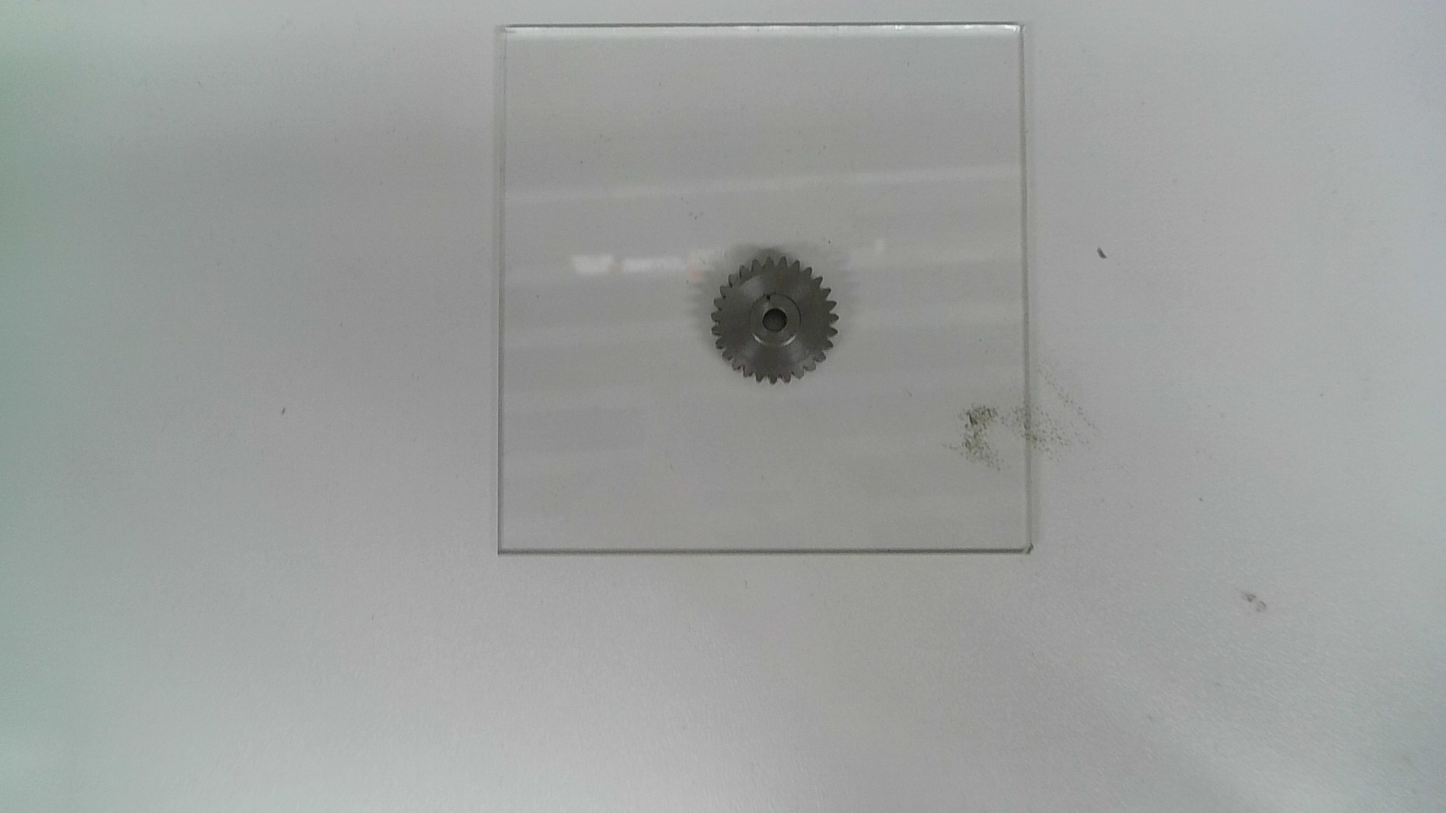gear: (709, 253, 842, 387)
